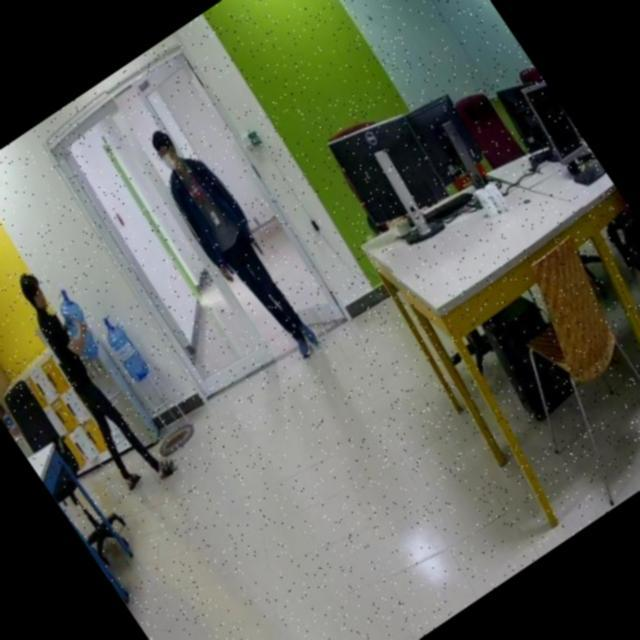person: (128, 112, 334, 374), (0, 260, 183, 497)
